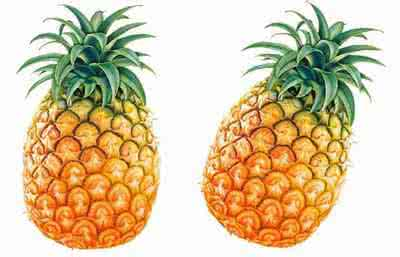pineapple: (199, 1, 374, 248), (22, 5, 158, 249)
